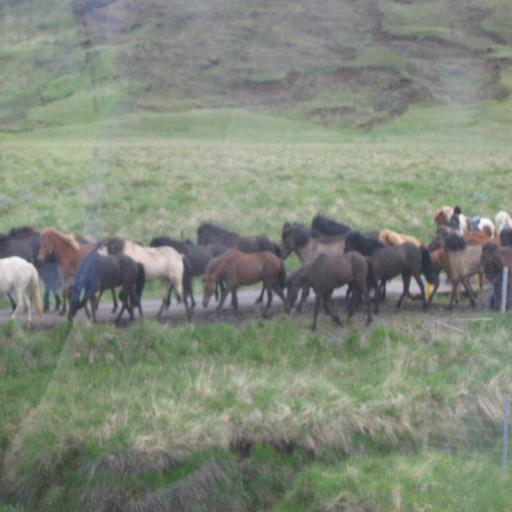horse: (0, 206, 512, 334), (192, 242, 284, 317)
